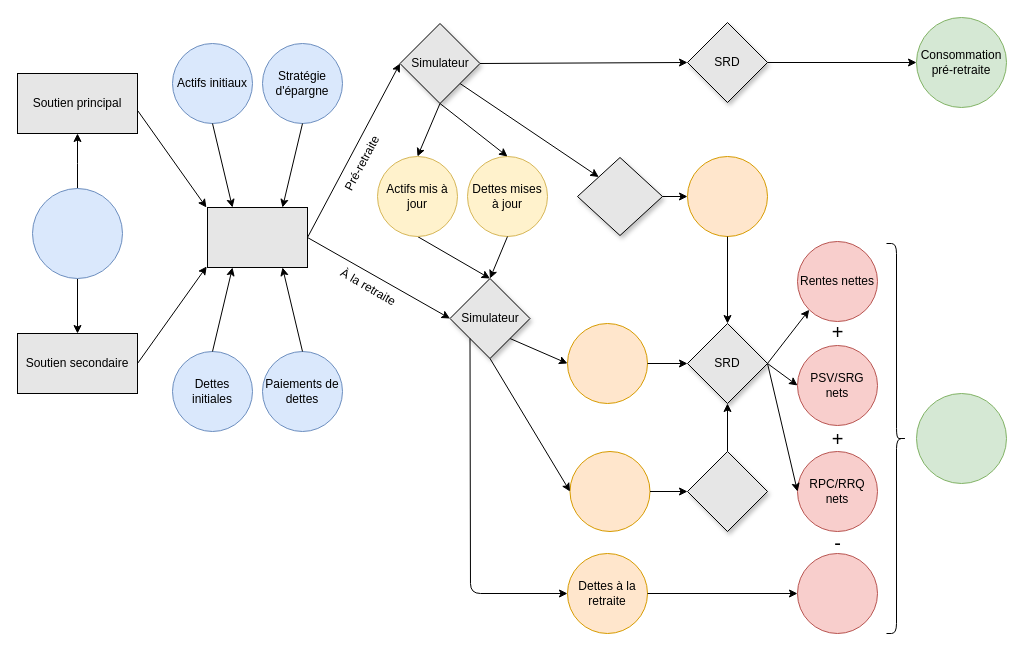
This 1024x651 diagram has some shape labels left out. The shapes that lost their labels are listed below. From the top down, each one's centre as x and y in pixels, then its label:
the point at 620,197: Calculateur de RPC
the point at 727,196: Prestations de RPC/RRQ
the point at 77,233: Gains, carac. démo., RPA à PD passés
the point at 257,237: Ménage
the point at 607,363: Prestations de RPA à PD
the point at 961,438: Consommation à la retraite
the point at 609,491: Actifs finaux (incluant RPA à CD)
the point at 728,492: Calculateur de rentes
the point at 837,593: Paiements de dettes à la retraite
